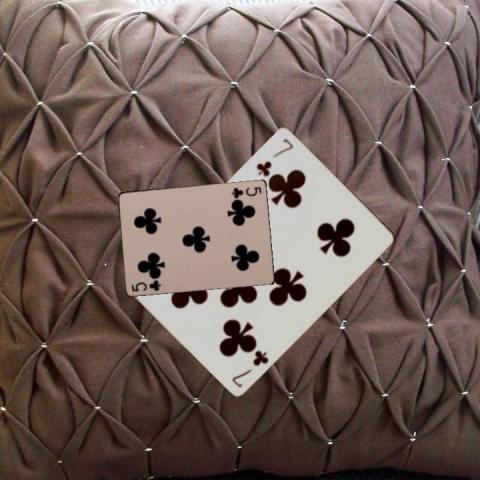5c: (129, 276, 162, 292), (229, 183, 263, 198)
7c: (253, 134, 295, 176), (229, 346, 270, 388)
